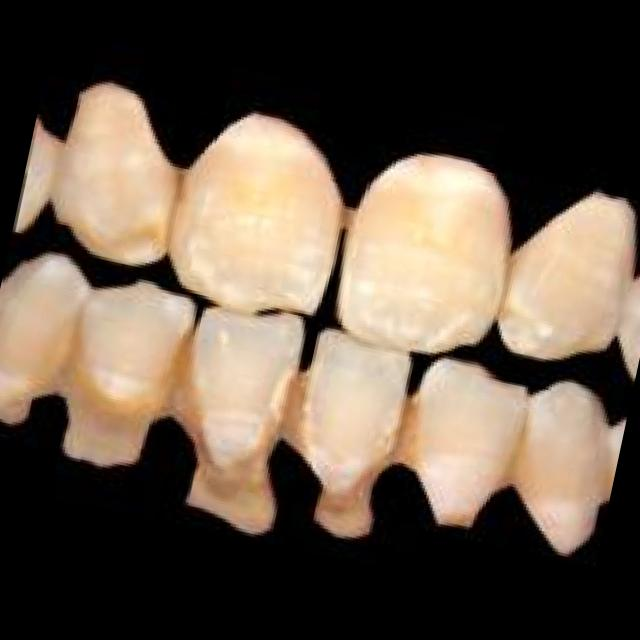1: (312, 128, 534, 360), (154, 92, 356, 322), (162, 302, 324, 536), (268, 327, 431, 548), (480, 155, 640, 379), (49, 262, 208, 478), (38, 66, 196, 268), (394, 352, 539, 544), (502, 367, 630, 565), (0, 236, 88, 432)
karies: (180, 451, 285, 529), (57, 378, 149, 462), (260, 358, 324, 446), (155, 324, 212, 416), (81, 206, 162, 262), (46, 310, 98, 392), (384, 389, 432, 463), (318, 488, 373, 534), (155, 162, 195, 224), (502, 428, 536, 489), (433, 502, 475, 524), (0, 393, 25, 420)
